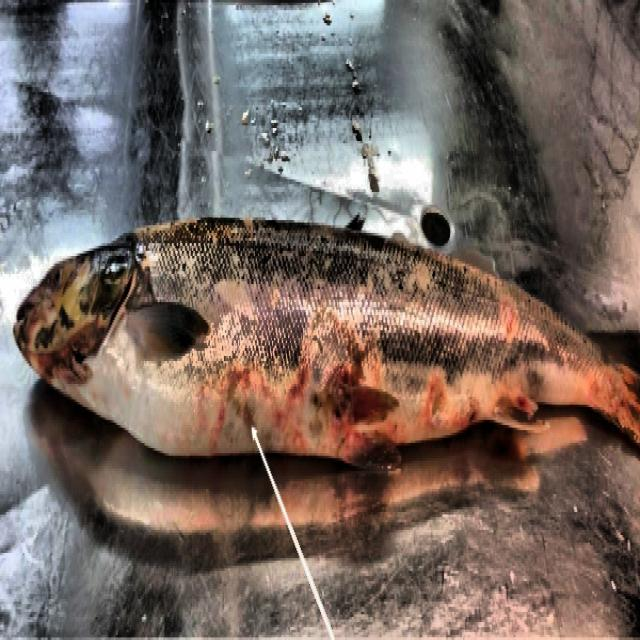mild_red: (83, 220, 601, 461)
